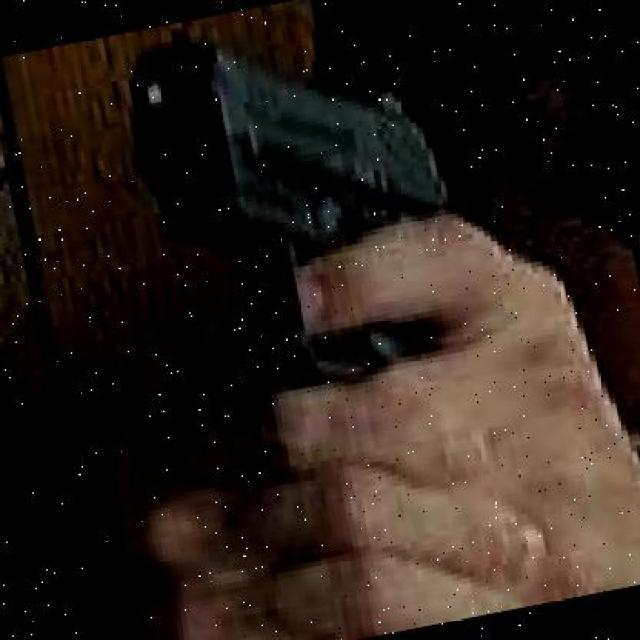rifle: (115, 32, 448, 242)
